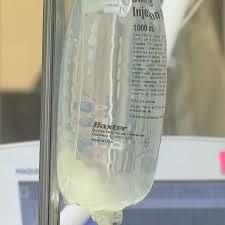Iv_Bottle: (57, 0, 166, 224)
